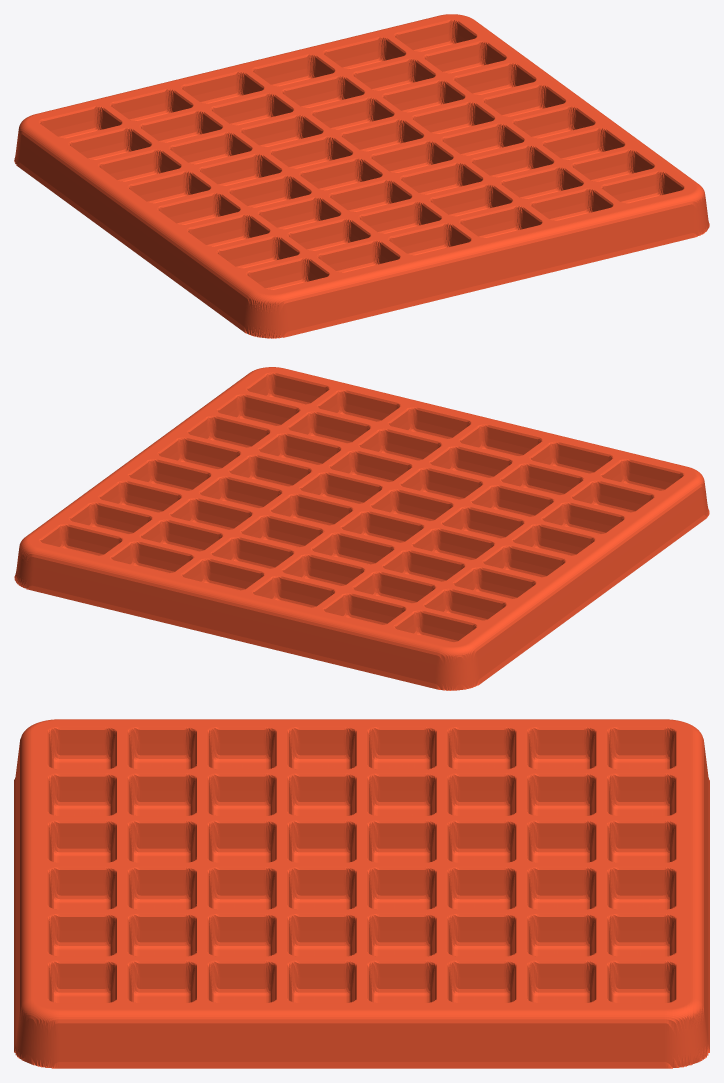
File: mold.glb
3 views of the same model, one above another, from view 1: azimuth 30°, elevation 25°; view 2: azimuth 150°, elevation 25°; view 3: azimuth 270°, elevation 25° (orthographic). The views are drawn at different scales.
Visible parts, largest first — view 1: geometry_0; view 2: geometry_0; view 3: geometry_0.
Part boxes in pixels (x1,y1,x2,y2): geometry_0: (14, 14, 709, 338); geometry_0: (14, 367, 709, 690); geometry_0: (14, 719, 709, 1068).
Bounding box in the file's own units: 0.1443 × 0.0114 × 0.1394.
